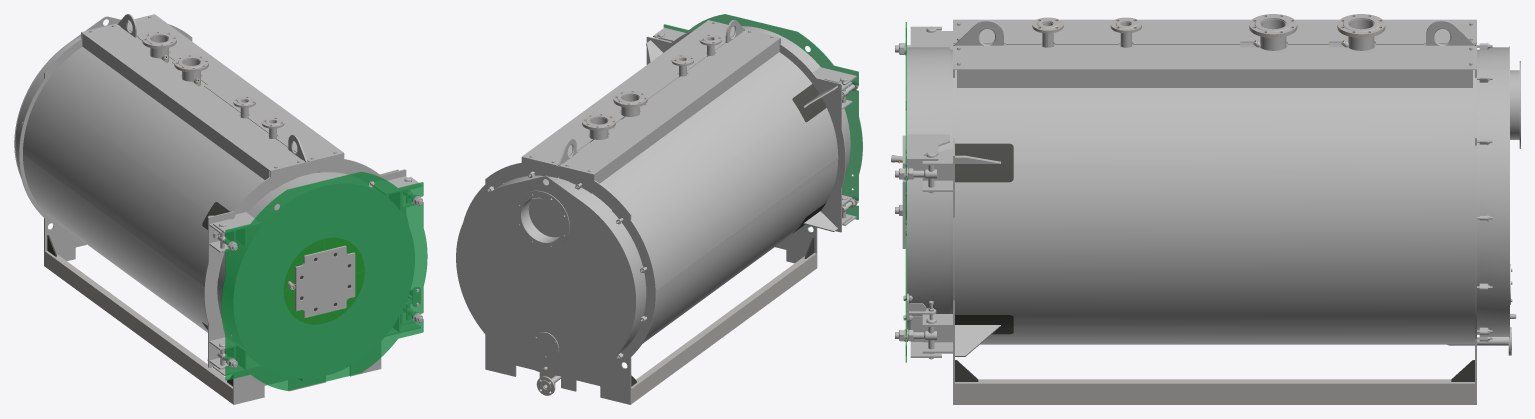
The picture shows the model from 3 angles, left to right: view 1: azimuth 30°, elevation 25°; view 2: azimuth 150°, elevation 25°; view 3: azimuth 270°, elevation 25°; orthographic projection. The views are drawn at different scales.
Visible parts, largest first — view 1: PR.01.01.01.042 Обшивка корпуса:1, PR.05.01.01.017 Лист ФД:1, PR.08.01.01.003 Изоляция ФД:1, PR.05.01.01.106-01 Лист площадки:2, PR.05.01.01.106-00 Лист площадки:1, PR.05.01.01.009-01 Лист ФО:2, ГОСТ 8240-97 12P-2654:2, PR.01.01.01.008-00 Обечайка ФД и ЗК:1, PR.05.01.01.022-00 Плита горелки:1, SOLID (×3), PR.05.01.01.033-01 Ребро площадки:2, PR.05.01.01.010-01 Лист ЗО:2 (+5 smaller); view 2: PR.01.01.01.042 Обшивка корпуса:1, PR.05.01.01.023 Лист ЗК:1, PR.05.01.01.106-01 Лист площадки:2, PR.05.01.01.106-00 Лист площадки:1, PR.05.01.01.010-01 Лист ЗО:2, ГОСТ 8240-97 12P-2654:2, PR.05.01.01.009-01 Лист ФО:2, PR.05.01.01.017 Лист ФД:1, PR.05.01.01.033-01 Ребро площадки:2, PR.01.01.01.008-01 Обечайка ФД и ЗК:1, PR.05.01.01.010 Лист ЗО:1, PR.05.01.01.025-00 Фланец патрубка ЗК:1 (+7 smaller); view 3: PR.01.01.01.042 Обшивка корпуса:1, ГОСТ 8240-97 12P-2654:1, PR.05.01.01.106-00 Лист площадки:1, PR.05.01.01.106-01 Лист площадки:2, PR.05.01.01.033-01 Ребро площадки:1, PR.01.01.01.008-00 Обечайка ФД и ЗК:1, PR.01.01.01.008-01 Обечайка ФД и ЗК:1, PR.05.01.01.082-00 Накладка обшивки:1, SOLID (×2), PR.01.01.01.004-01 Обечайка корпуса:1, PR.03.01.01.002-00 Труба входа и выхода:1 (×2), PR.05.01.01.018-00 Ребро с пазом ФД:1 (+9 smaller).
Part boxes in pixels (<box>): PR.01.01.01.042 Обшивка корпуса:1: <box>23,30,296,332</box>; PR.05.01.01.017 Лист ФД:1: <box>221,171,427,390</box>; PR.08.01.01.003 Изоляция ФД:1: <box>234,184,414,377</box>; PR.05.01.01.106-01 Лист площадки:2: <box>81,23,305,171</box>; PR.05.01.01.106-00 Лист площадки:1: <box>128,14,344,161</box>; PR.05.01.01.009-01 Лист ФО:2: <box>204,162,307,404</box>; ГОСТ 8240-97 12P-2654:2: <box>45,250,232,403</box>; PR.01.01.01.008-00 Обечайка ФД и ЗК:1: <box>217,172,381,378</box>; PR.05.01.01.022-00 Плита горелки:1: <box>295,246,355,317</box>; SOLID (×3): <box>142,31,364,324</box>; PR.05.01.01.033-01 Ребро площадки:2: <box>82,34,269,179</box>; PR.05.01.01.010-01 Лист ЗО:2: <box>18,23,117,266</box>; PR.01.01.01.042 Обшивка корпуса:1: <box>557,36,838,343</box>; PR.05.01.01.023 Лист ЗК:1: <box>456,176,636,376</box>; PR.05.01.01.106-01 Лист площадки:2: <box>559,29,780,174</box>; PR.05.01.01.106-00 Лист площадки:1: <box>522,20,734,165</box>; PR.05.01.01.010-01 Лист ЗО:2: <box>558,166,656,404</box>; ГОСТ 8240-97 12P-2654:2: <box>631,253,816,403</box>; PR.05.01.01.009-01 Лист ФО:2: <box>744,29,845,268</box>; PR.05.01.01.017 Лист ФД:1: <box>663,14,862,227</box>; PR.05.01.01.033-01 Ребро площадки:2: <box>595,39,779,183</box>; PR.01.01.01.008-01 Обечайка ФД и ЗК:1: <box>494,175,646,356</box>; PR.05.01.01.010 Лист ЗО:1: <box>463,157,557,385</box>; PR.05.01.01.025-00 Фланец патрубка ЗК:1: <box>515,190,569,249</box>; PR.01.01.01.042 Обшивка корпуса:1: <box>955,42,1474,344</box>; ГОСТ 8240-97 12P-2654:1: <box>955,379,1474,404</box>; PR.05.01.01.106-00 Лист площадки:1: <box>953,45,1476,69</box>; PR.05.01.01.106-01 Лист площадки:2: <box>953,19,1476,44</box>; PR.05.01.01.033-01 Ребро площадки:1: <box>957,70,1472,87</box>; PR.01.01.01.008-00 Обечайка ФД и ЗК:1: <box>907,47,949,329</box>; PR.01.01.01.008-01 Обечайка ФД и ЗК:1: <box>1479,47,1509,336</box>; PR.05.01.01.082-00 Накладка обшивки:1: <box>955,143,1013,182</box>; SOLID (×2): <box>1249,14,1385,37</box>; PR.01.01.01.004-01 Обечайка корпуса:1: <box>950,49,1479,334</box>; PR.03.01.01.002-00 Труба входа и выхода:1 (×2): <box>1260,19,1374,50</box>; PR.05.01.01.018-00 Ребро с пазом ФД:1: <box>907,134,949,160</box>.
Size of the model in its own units: 1.68 by 1.88 by 3.21.
